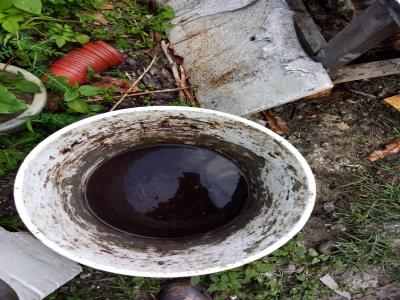bucket: (10, 103, 319, 281)
